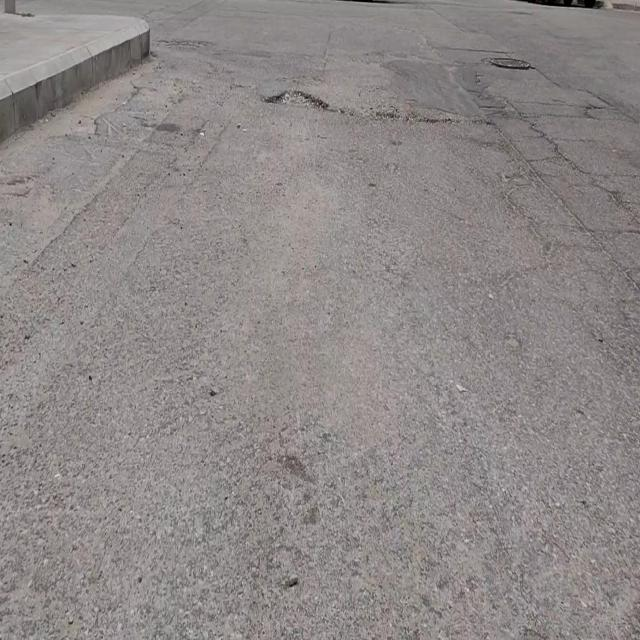Potholes: (265, 89, 329, 111)
